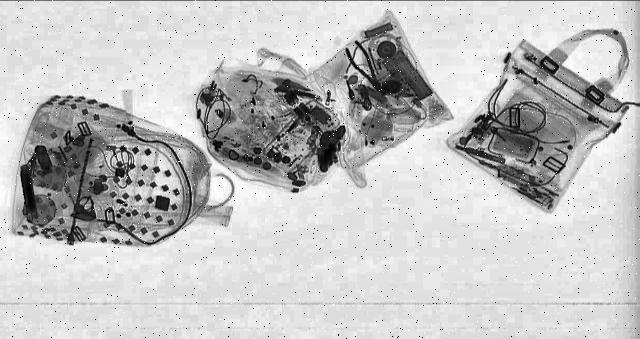Pliers: (338, 40, 396, 98)
